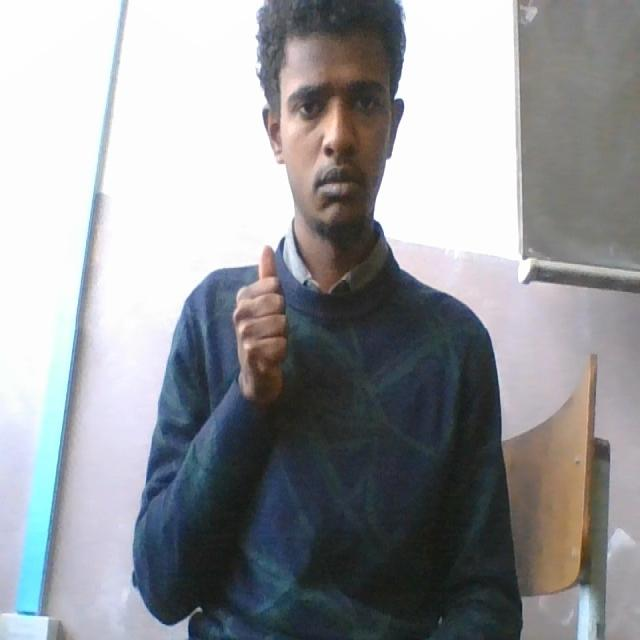akst: (227, 204, 339, 421)
